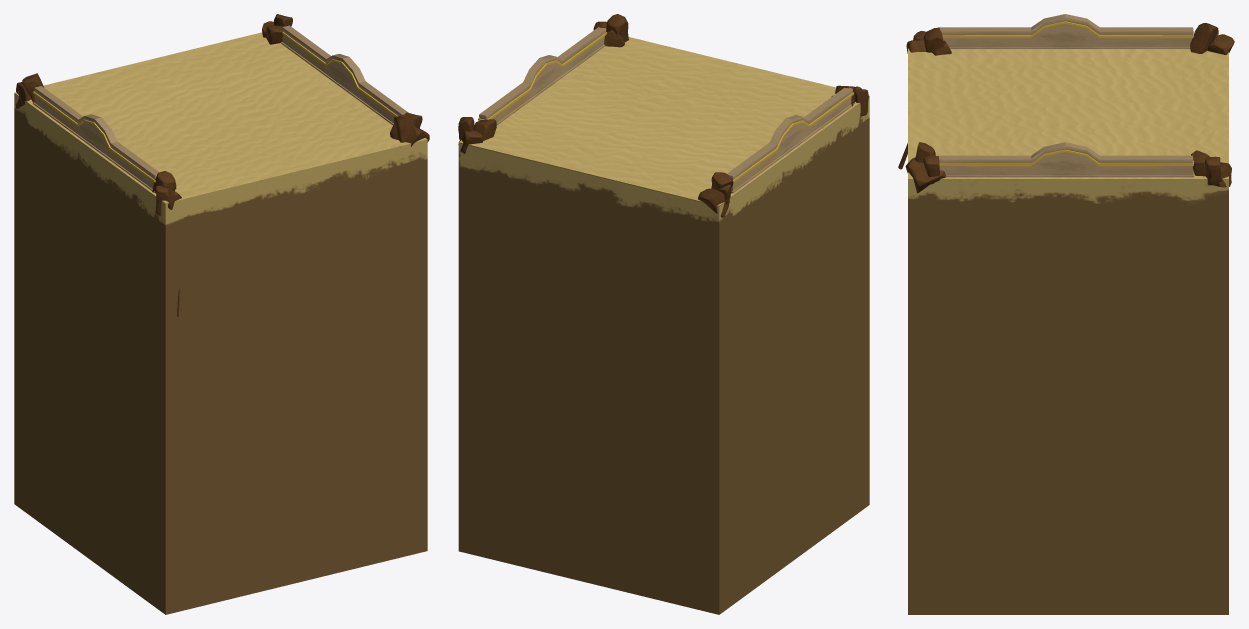
The model's file is Plataforma Lanzas.fbx.
The picture shows the model from 3 angles, left to right: view 1: azimuth 30°, elevation 25°; view 2: azimuth 150°, elevation 25°; view 3: azimuth 270°, elevation 25°; orthographic projection. The views are drawn at different scales.
Parts seen in each view (by area): view 1: Plataforma 1.006, Muro.001, Muro; view 2: Plataforma 1.006, Muro.001, Muro; view 3: Plataforma 1.006, Muro, Muro.001, Cube.025, Cube.033.
Part boxes in pixels (x1,y1,x2,y2): Plataforma 1.006: (14,32,427,614); Muro.001: (33,86,158,192); Muro: (281,25,408,125); Plataforma 1.006: (458,37,869,614); Muro.001: (727,87,853,193); Muro: (478,27,607,125); Plataforma 1.006: (908,48,1228,614); Muro: (938,142,1194,177); Muro.001: (938,14,1193,48); Cube.025: (905,155,945,193); Cube.033: (1190,23,1218,53).
Size of the model in its own units: 1043 by 1607 by 1049.
